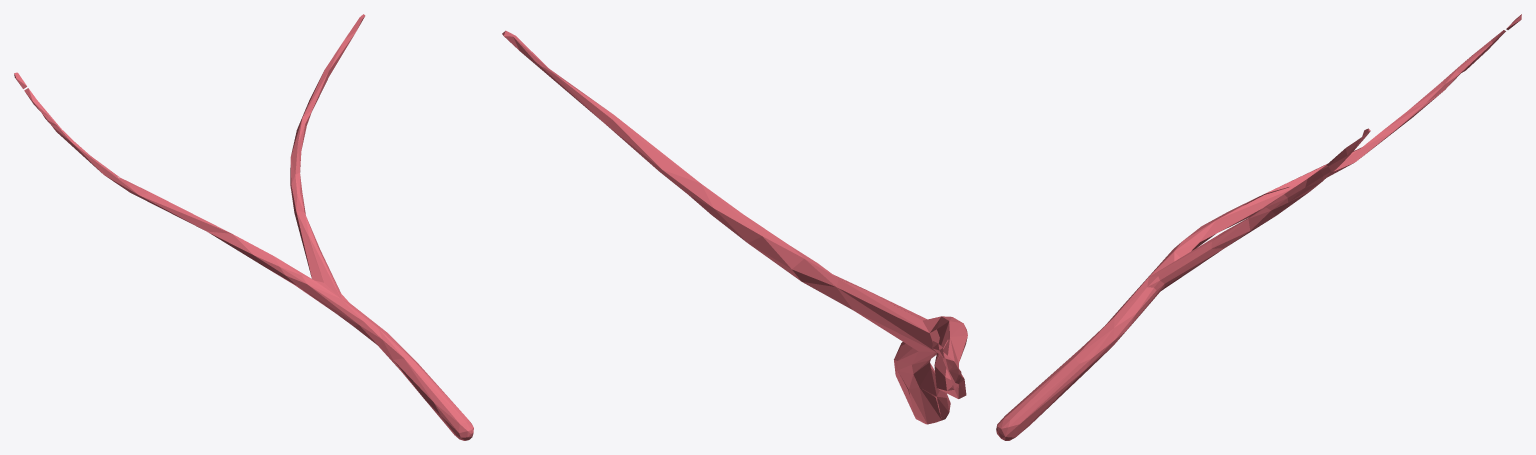
Rendered from fma50377_fj3679.glb.
3 views of the same model, side by side, from view 1: azimuth 30°, elevation 25°; view 2: azimuth 150°, elevation 25°; view 3: azimuth 270°, elevation 25° (orthographic). The views are drawn at different scales.
Visible parts, largest first — view 1: FMA50377_FJ3679; view 2: FMA50377_FJ3679; view 3: FMA50377_FJ3679.
Boxes of the visible parts, x1,y1,x2,y2 form: FMA50377_FJ3679: (14, 14, 473, 440); FMA50377_FJ3679: (502, 30, 967, 424); FMA50377_FJ3679: (996, 14, 1521, 440).
Bounding box in the file's own units: 0.0179 × 0.0179 × 0.0249.
